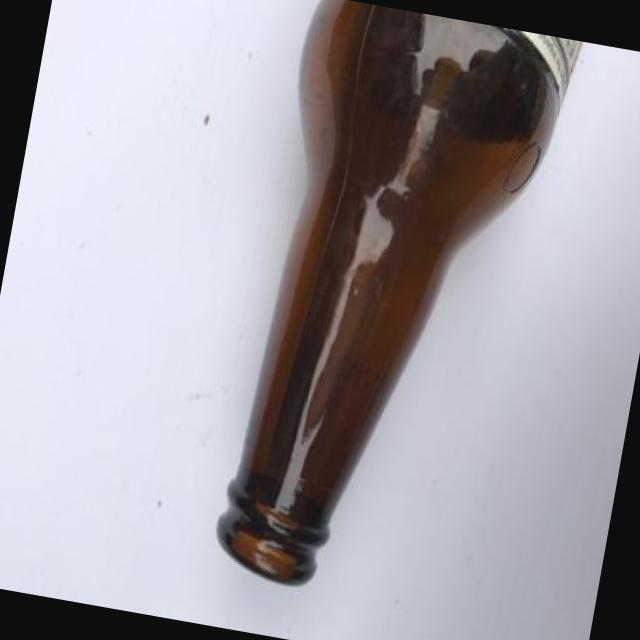chai_thuy_tinh: (217, 0, 584, 585)
